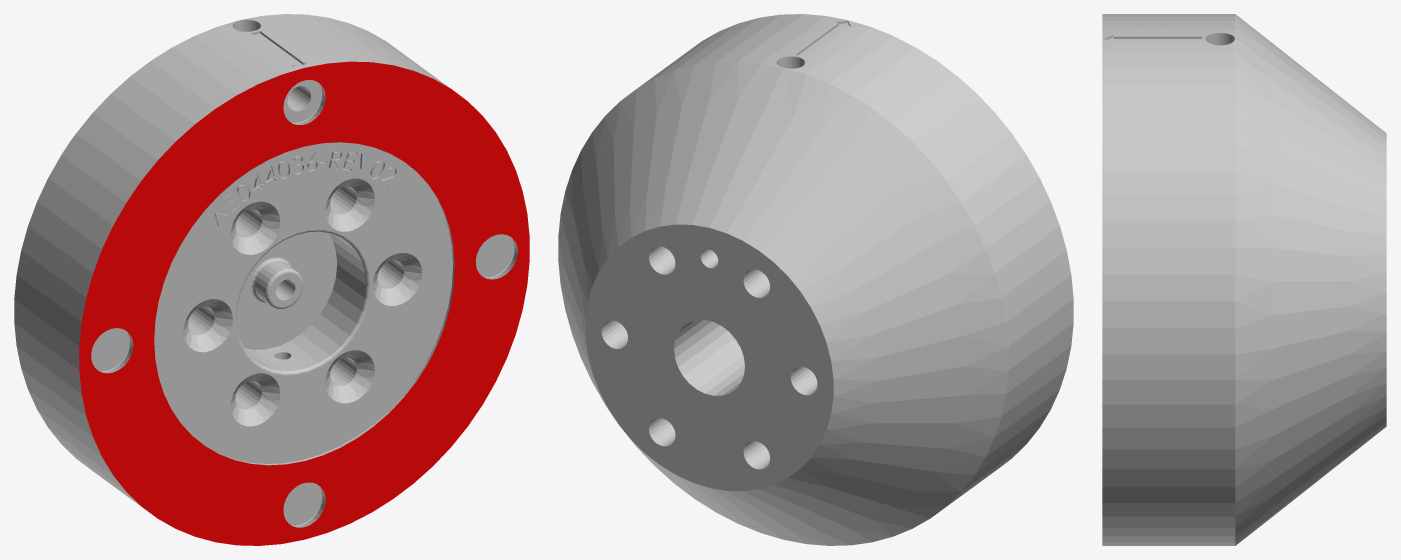
The model's file is AE044036_STEP_54.obj.
The picture shows the model from 3 angles, left to right: view 1: azimuth 30°, elevation 25°; view 2: azimuth 150°, elevation 25°; view 3: azimuth 270°, elevation 25°; orthographic projection. The views are drawn at different scales.
Parts seen in each view (by area): view 1: Object1; view 2: Object1; view 3: Object1.
Boxes of the visible parts, x1,y1,x2,y2 form: Object1: (14, 14, 529, 545); Object1: (558, 14, 1073, 545); Object1: (1102, 14, 1386, 545).
Bounding box in the file's own units: 76.1 × 76.2 × 40.69.
